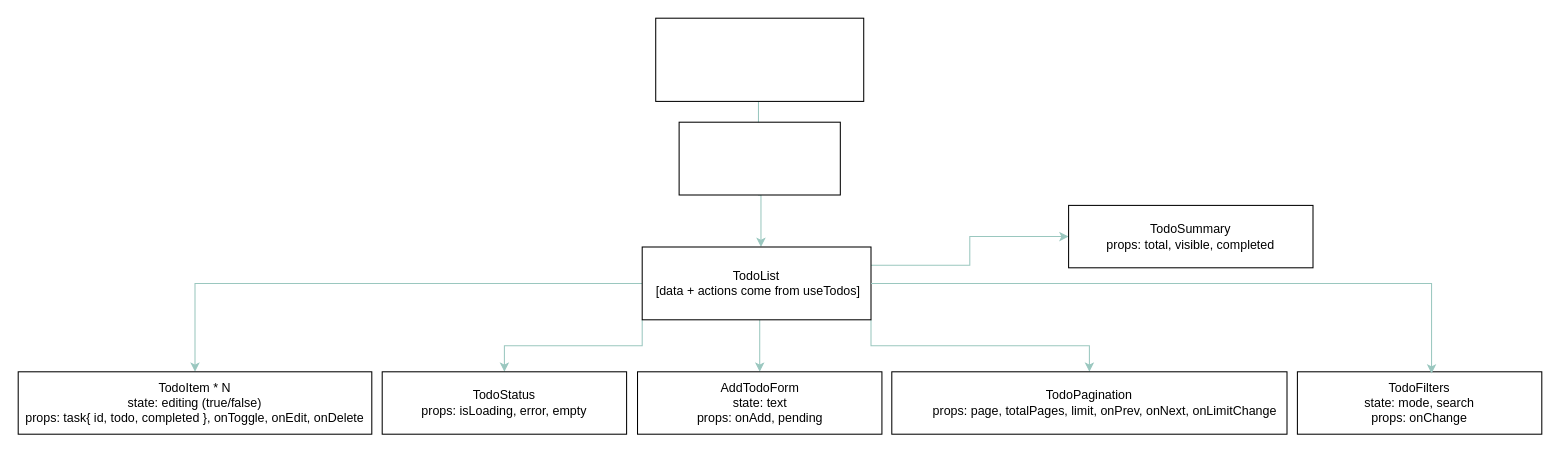
Image size: 1560x452. Some labels were removed from this diagram. Each missing label, with the centre of its shape:
"App (root, without state and props)" goes at pixel 759 59.
"TodoApp (container, header)" goes at pixel 759 158.
